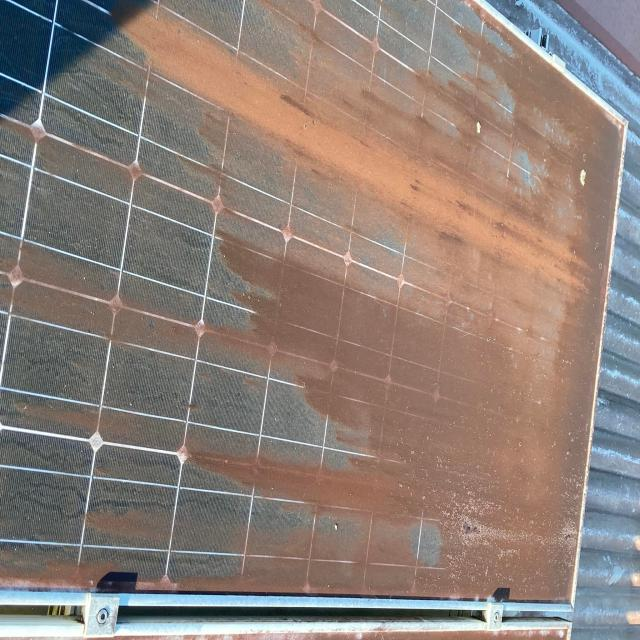dust-solar-panel: (0, 0, 625, 600)
